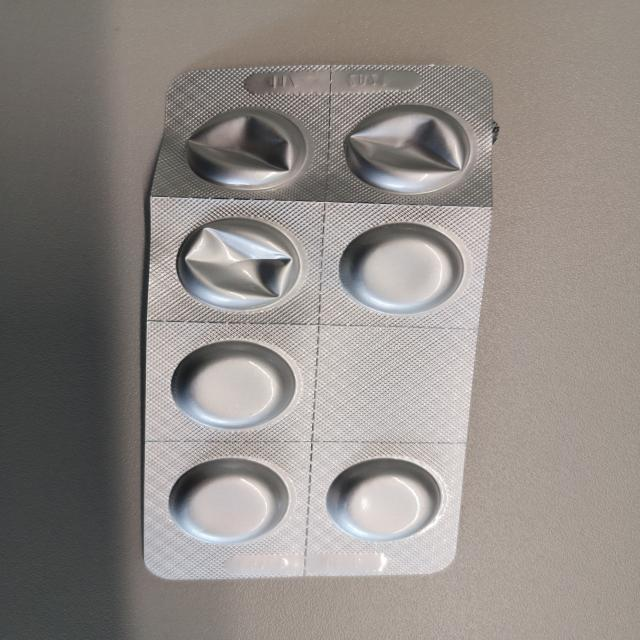Empty: (169, 211, 308, 314), (340, 101, 476, 196), (178, 104, 312, 194)
Pill: (334, 219, 468, 318), (166, 337, 303, 432), (162, 454, 293, 546), (323, 453, 448, 542)
